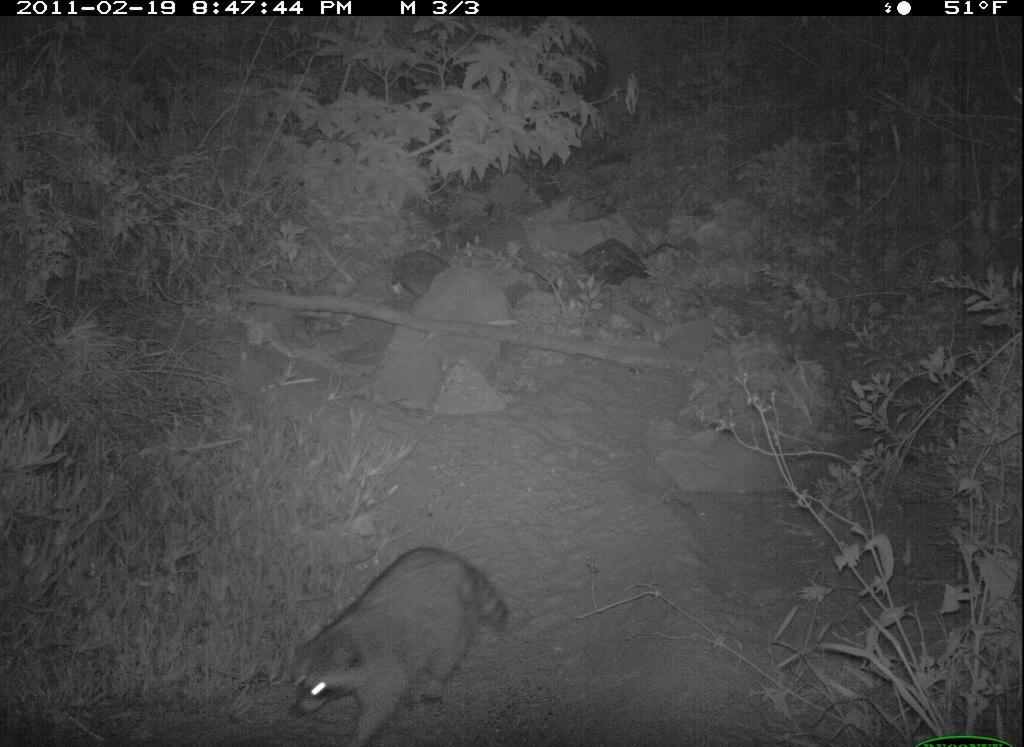raccoon: (283, 542, 523, 739)
